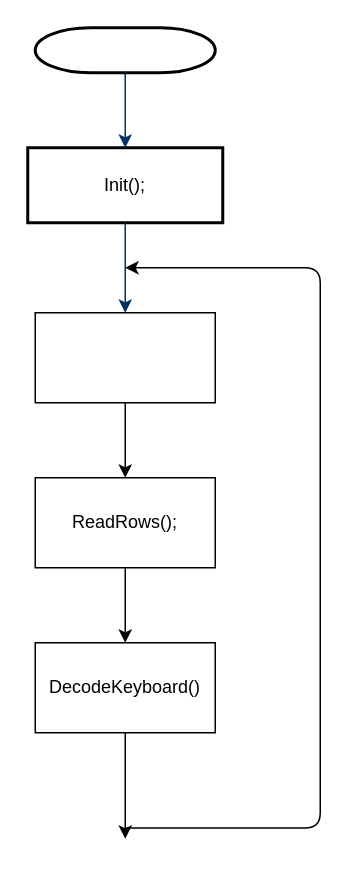
Image size: 359x878. Some labels were removed from this diagram. The centre of each missing label's shape, as x and y in pixels:
"ColumnScan();" goes at pixel 124 357.
"start" goes at pixel 124 50.
